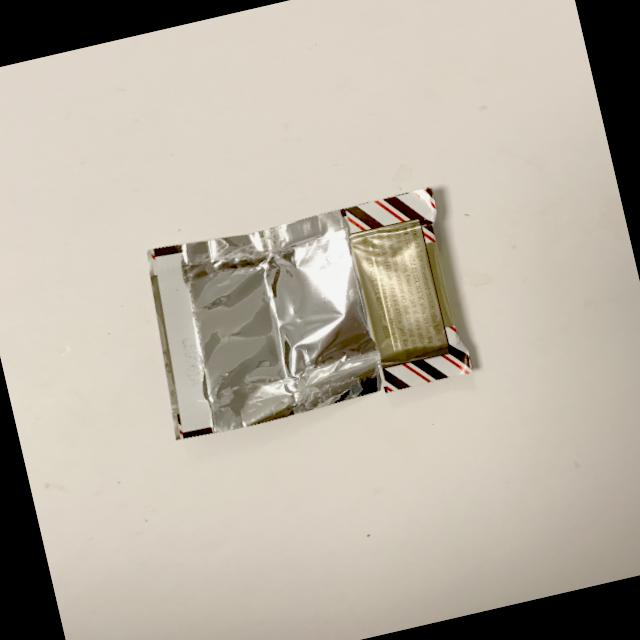Plastic: (109, 140, 543, 481)
